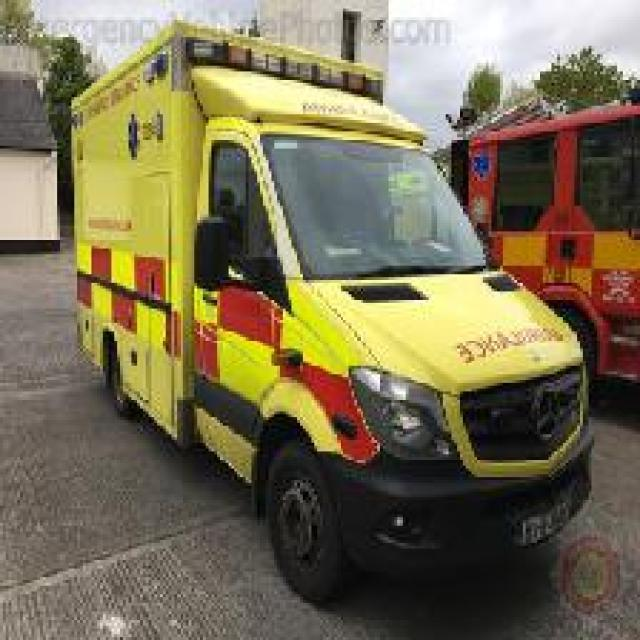emergency: (66, 18, 598, 606)
